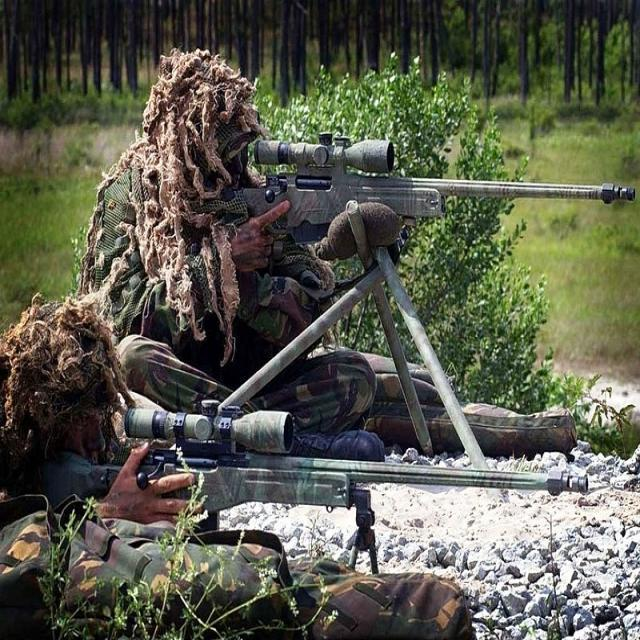sniper rifle: (216, 136, 637, 462), (33, 399, 590, 517)
